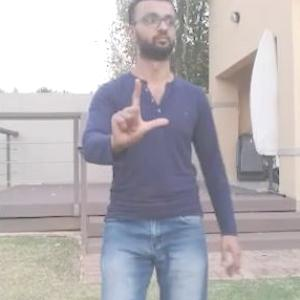land_hand: (107, 74, 171, 156)
